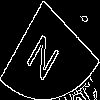N: (25, 25, 66, 83)
